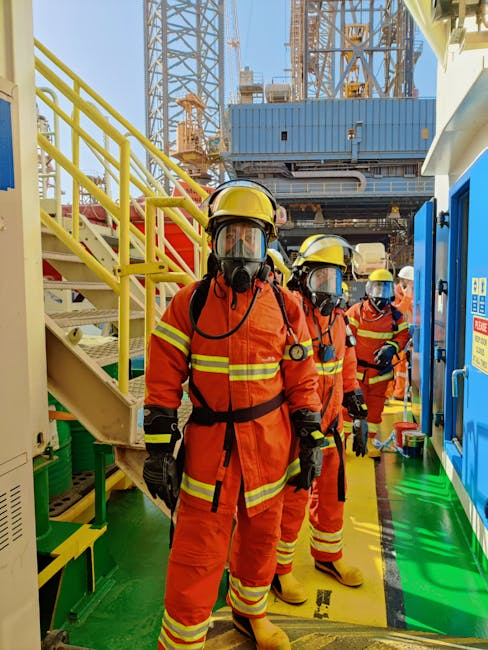safety_helmet: (204, 179, 279, 292), (203, 178, 280, 243), (291, 233, 357, 277), (365, 268, 396, 312), (397, 265, 414, 281)
